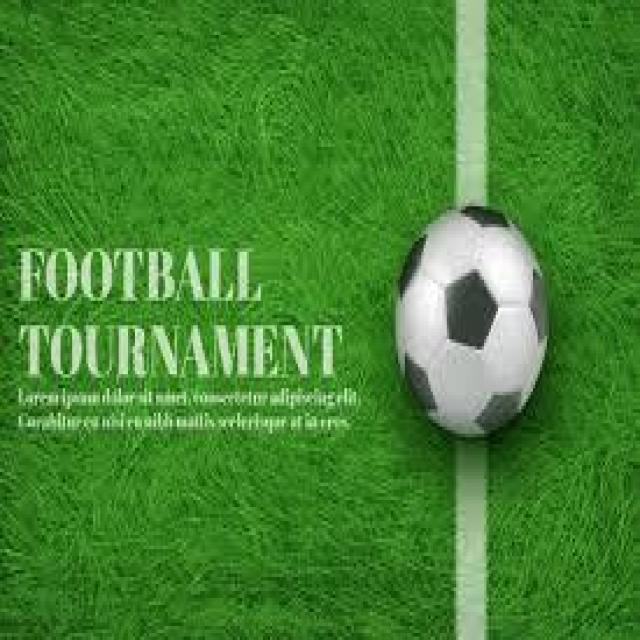Soccer Ball: (396, 206, 549, 437)
